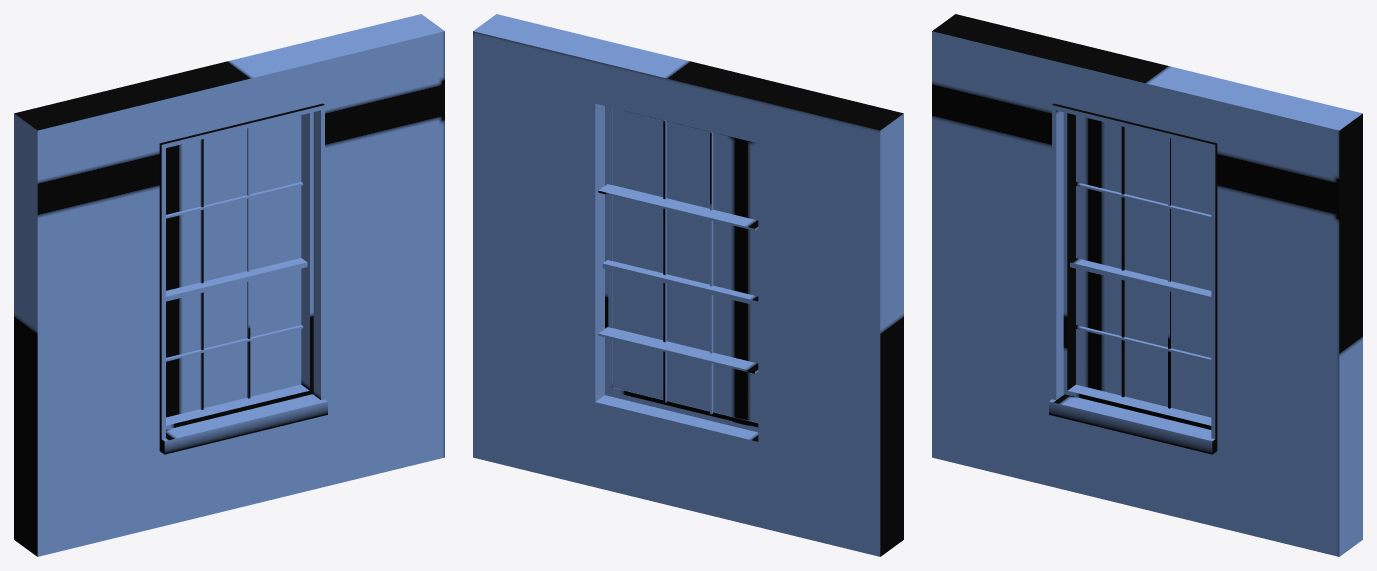
File: Window_01.fbx
3 views of the same model, side by side, from view 1: azimuth 30°, elevation 25°; view 2: azimuth 150°, elevation 25°; view 3: azimuth 330°, elevation 25° (orthographic).
Visible parts, largest first — view 1: Window_01; view 2: Window_01; view 3: Window_01.
Boxes of the visible parts, x1,y1,x2,y2 form: Window_01: (14, 14, 444, 556); Window_01: (473, 14, 903, 556); Window_01: (932, 14, 1362, 556).
Size of the model in its own units: 300 by 300 by 36.4.
